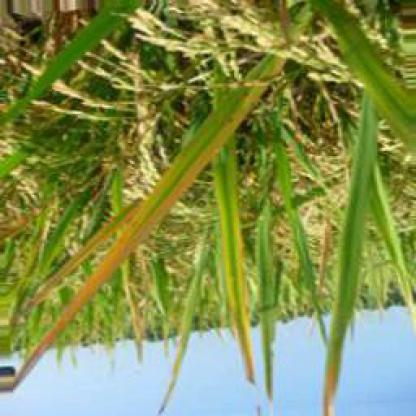Tungro: (4, 87, 256, 398), (226, 100, 253, 388), (313, 352, 355, 416)
